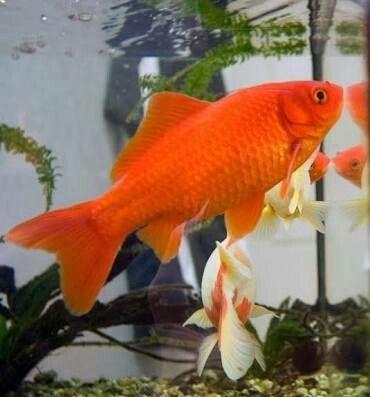Gold Fish: (3, 73, 346, 320)
